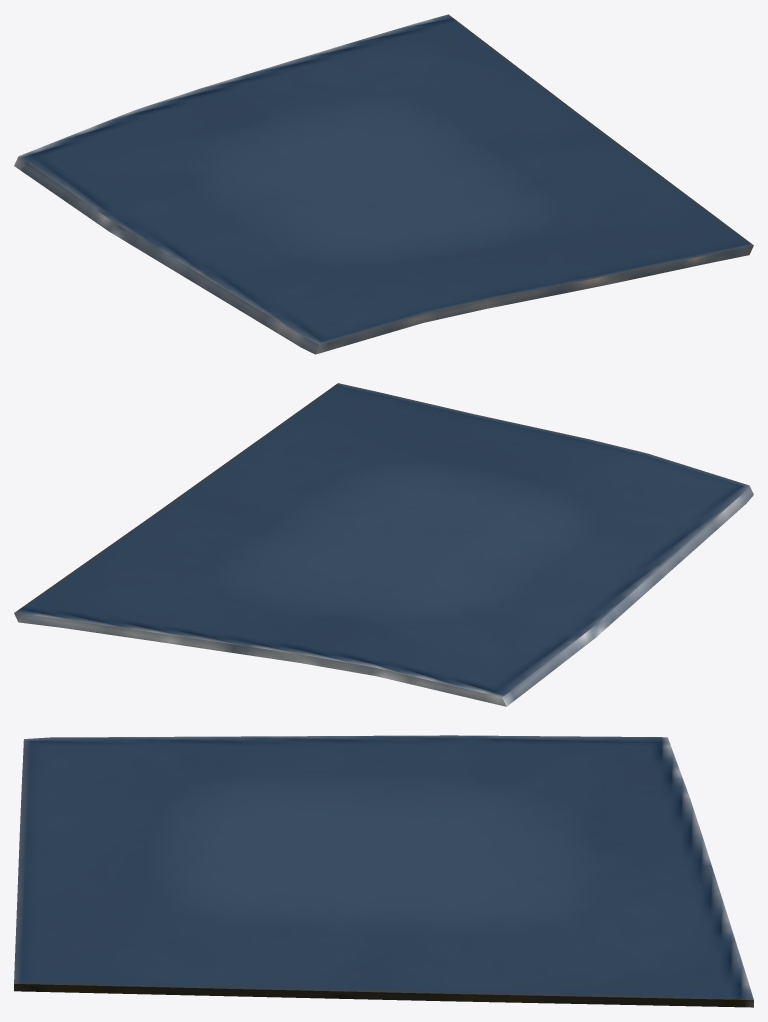
The model's file is FordCrownVic92RearWindow_WorldItem.fbx.
3 renders of one model, top to bottom at view 1: azimuth 30°, elevation 25°; view 2: azimuth 150°, elevation 25°; view 3: azimuth 270°, elevation 25°, orthographic. The views are drawn at different scales.
Visible parts, largest first — view 1: RearRightWindow_obj; view 2: RearRightWindow_obj; view 3: RearRightWindow_obj.
Part boxes in pixels (box(x1,y1,x2,y2)): RearRightWindow_obj: box(14, 14, 753, 354); RearRightWindow_obj: box(14, 383, 753, 706); RearRightWindow_obj: box(14, 735, 753, 1007).
Size of the model in its own units: 0.8323 by 0.0415 by 0.9781.
